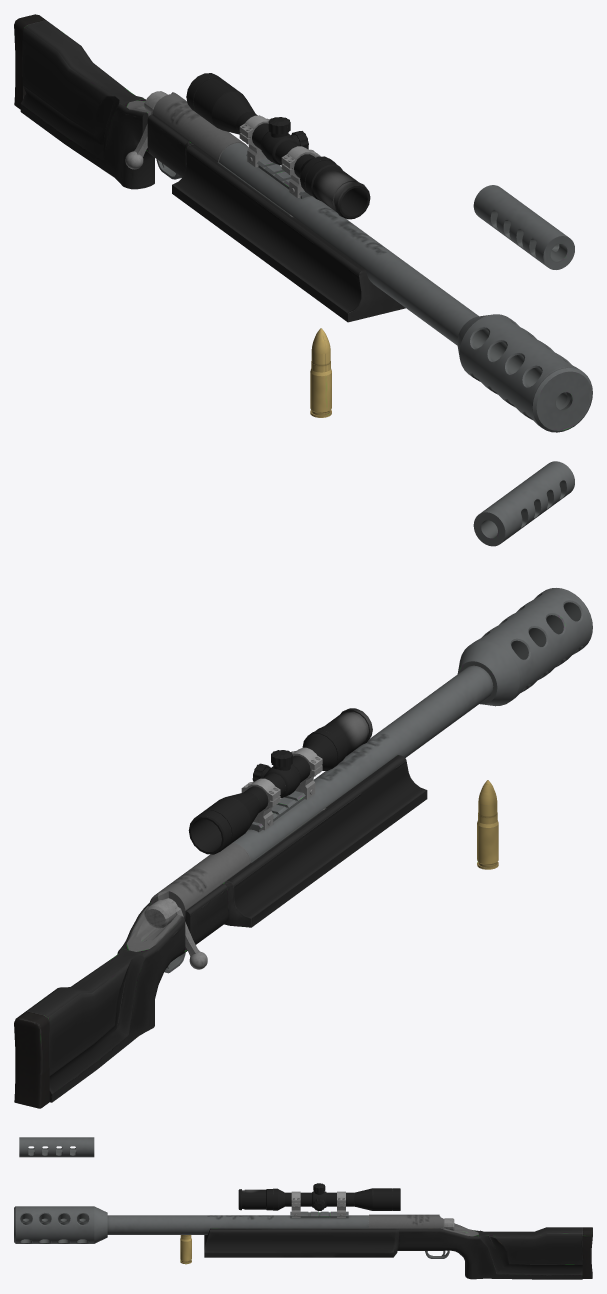
File: ssk_industries_.950_jdj_fat_mac.glb
3 renders of one model, top to bottom at view 1: azimuth 30°, elevation 25°; view 2: azimuth 150°, elevation 25°; view 3: azimuth 270°, elevation 25°, orthographic. The views are drawn at different scales.
Visible parts, largest first — view 1: SSK Fat Mac, Muzzle, Scope, Muzzle.001, .950 JDJ.001, Bolt; view 2: SSK Fat Mac, Scope, Muzzle, Muzzle.001, .950 JDJ.001, Bolt; view 3: SSK Fat Mac, Muzzle, Scope, Muzzle.001, .950 JDJ.001.
Part boxes in pixels (bbox=[...]): SSK Fat Mac: bbox=[14, 14, 478, 345]; Muzzle: bbox=[457, 314, 592, 432]; Scope: bbox=[186, 73, 370, 219]; Muzzle.001: bbox=[473, 185, 574, 269]; .950 JDJ.001: bbox=[310, 328, 331, 417]; Bolt: bbox=[125, 91, 167, 169]; SSK Fat Mac: bbox=[14, 665, 493, 1108]; Scope: bbox=[188, 708, 372, 854]; Muzzle: bbox=[457, 588, 592, 706]; Muzzle.001: bbox=[473, 461, 574, 546]; .950 JDJ.001: bbox=[477, 780, 498, 869]; Bolt: bbox=[144, 898, 207, 969]; SSK Fat Mac: bbox=[107, 1211, 592, 1279]; Muzzle: bbox=[14, 1206, 107, 1243]; Scope: bbox=[238, 1183, 400, 1217]; Muzzle.001: bbox=[19, 1137, 94, 1157]; .950 JDJ.001: bbox=[180, 1235, 191, 1264].
Bounding box in the file's own units: 0.1896 × 0.3689 × 1.33.
Materials: 1 (1 with a texture image).
